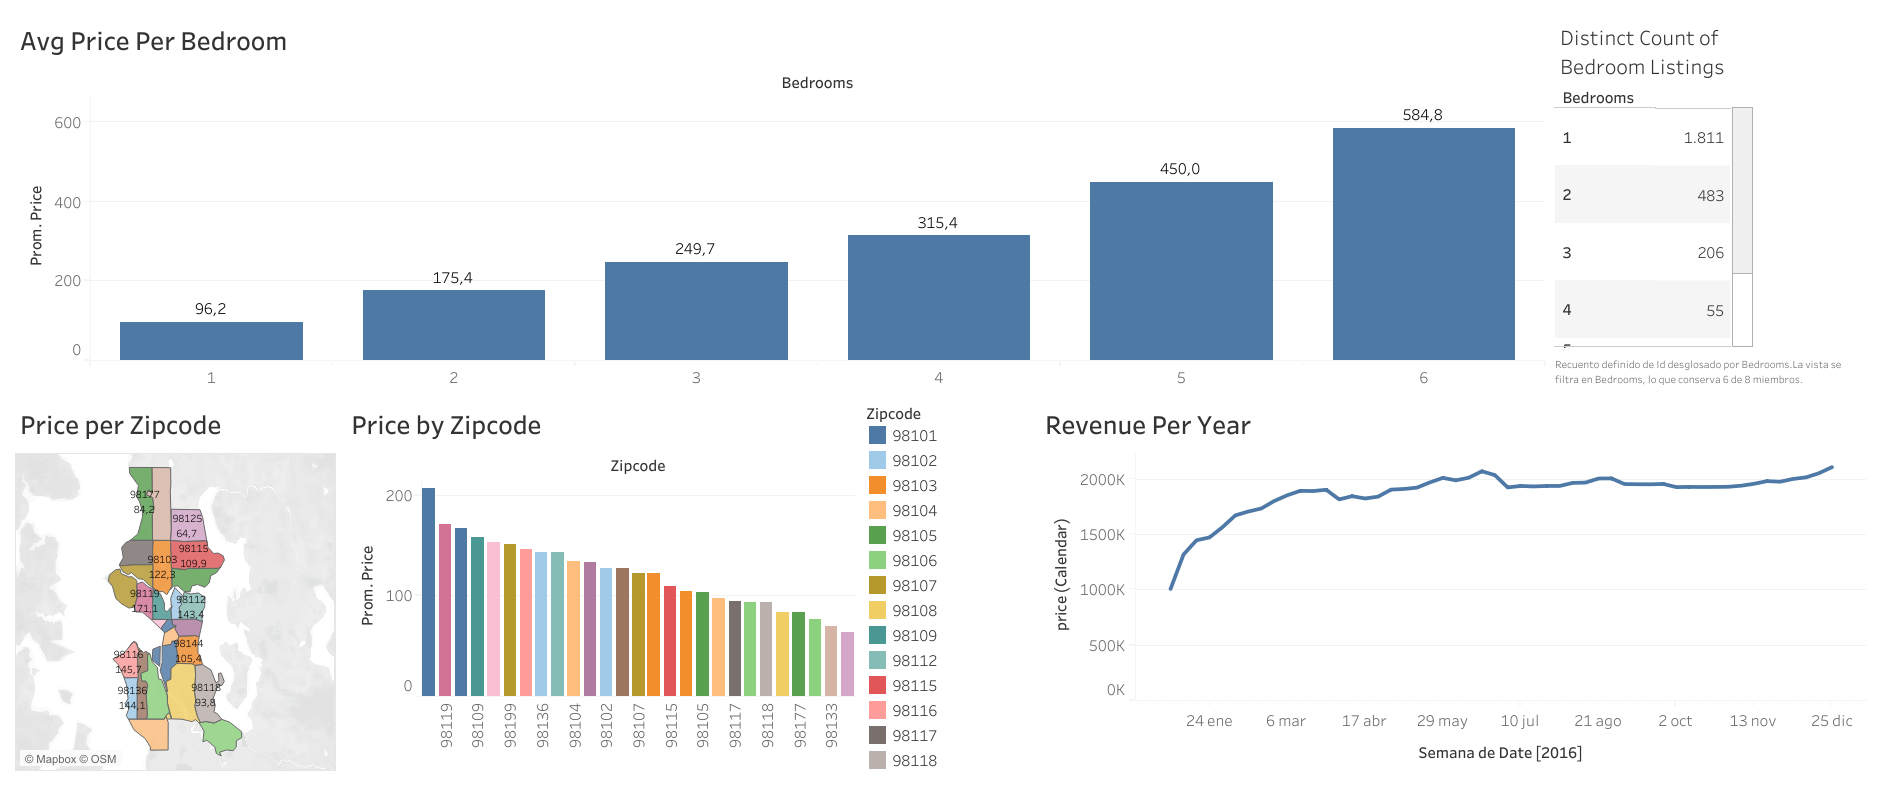

The dashboard page shown, as its layout file describes it:
{"tool":"tableau","page":{"name":"Dashboard 1","canvas":[1000,1000],"units":"permille","ordinal":0},"visuals":[{"type":"worksheet","title":"Chart 1","mark":"Bar","rows":["num_of_employees"],"cols":["calendar_year"],"box":[6.7,13.7,426.4,486.3]},{"type":"worksheet","title":"Chart 3","mark":"Automatic","rows":["salary"],"cols":["calendar_year"],"box":[433.1,13.7,426.4,486.3]},{"type":"filter","title":"Chart 3","param":"[federated.13ipbv01ljxgfd0zqosli0o43paf].[none:dept_name:nk]","box":[859.4,13.7,133.9,380.1]},{"type":"worksheet","title":"Chart 2","mark":"Area","rows":["active"],"cols":["calendar_year"],"box":[6.7,500,426.4,486.3]},{"type":"worksheet","title":"Chart 4","mark":"Bar","rows":["avg_salary"],"cols":["dept_name","gender"],"box":[433.1,500,426.4,486.3]}]}

Visuals, with their boxes on the dashboard's canvas, which has no fixed pixel size, in thousandths of its width and height (x1, y1, x2, y2). These are canvas units, not pixel positions in the 1880x785 screenshot, which may show the page scaled, cropped or inside an application window:
"Chart 1" worksheet (Bar marks): (7,14,433,500)
"Chart 3" worksheet: (433,14,860,500)
"Chart 3" filter: (859,14,993,394)
"Chart 2" worksheet (Area marks): (7,500,433,986)
"Chart 4" worksheet (Bar marks): (433,500,860,986)
